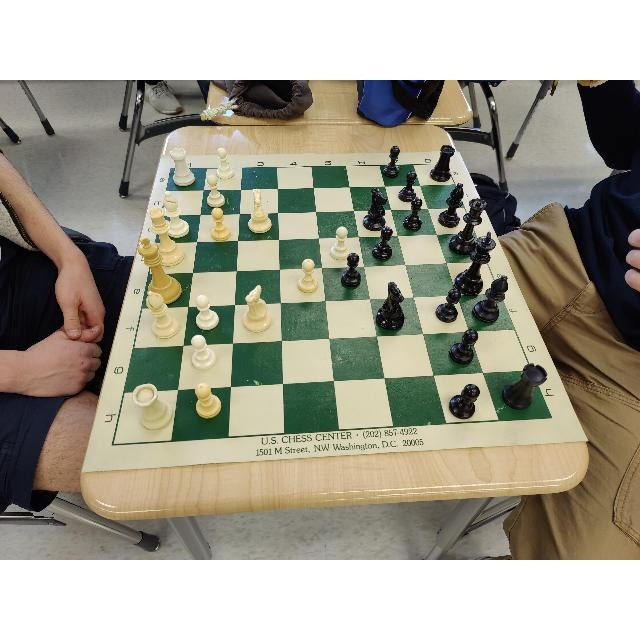black-bishop: (474, 273, 508, 324), (438, 182, 463, 228)
black-king: (454, 230, 496, 295)
black-knight: (375, 280, 405, 330), (363, 188, 389, 231)
black-pawn: (448, 383, 479, 419), (449, 328, 478, 364), (434, 288, 461, 322), (371, 225, 392, 261), (341, 253, 361, 289), (403, 197, 422, 231), (399, 170, 417, 202), (383, 146, 399, 178)
black-queen: (449, 197, 489, 257)
black-rook: (502, 362, 548, 410), (429, 145, 454, 181)
white-bishop: (145, 291, 181, 339), (162, 190, 190, 238)
white-king: (138, 238, 182, 304)
white-knight: (242, 284, 272, 332), (247, 188, 272, 234)
white-pawn: (195, 383, 223, 419), (191, 335, 217, 371), (195, 294, 219, 331), (296, 259, 318, 295), (210, 207, 232, 241), (330, 226, 350, 260), (206, 174, 226, 207), (218, 148, 234, 180)
white-queen: (149, 207, 185, 267)
white-rook: (133, 383, 173, 431), (170, 147, 194, 187)
